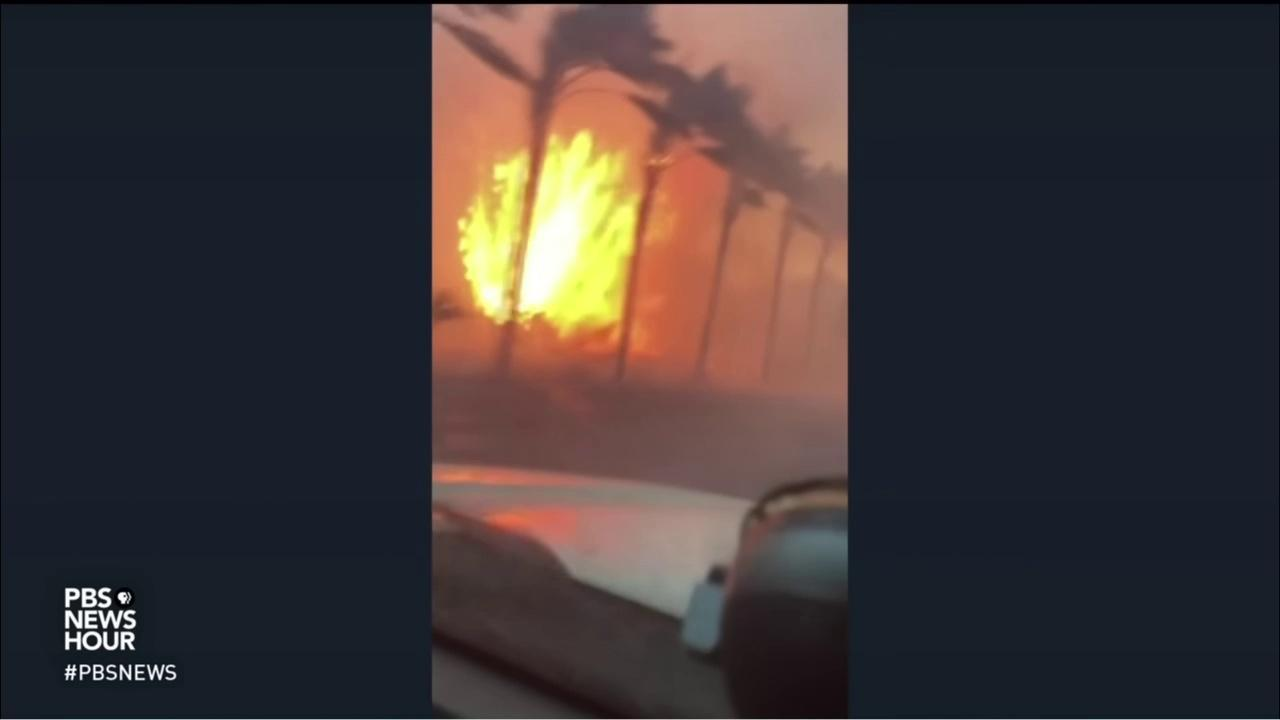fire: (456, 125, 678, 357)
smoke: (431, 4, 847, 491)
